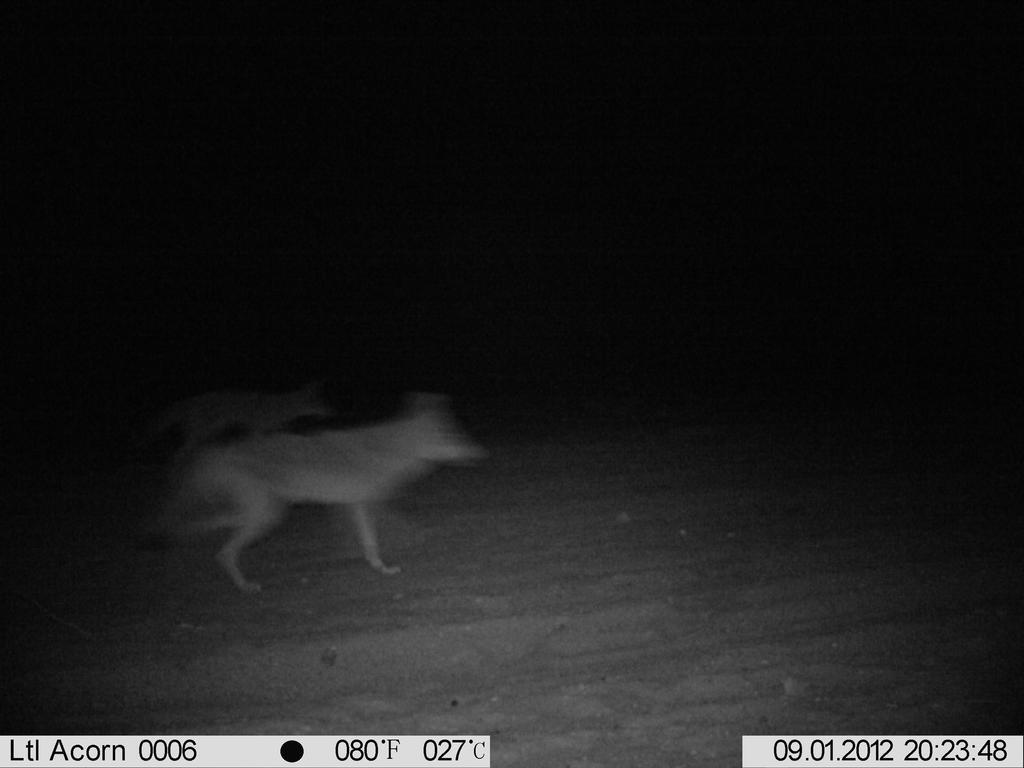coyote: (165, 395, 488, 596), (151, 385, 336, 436)
